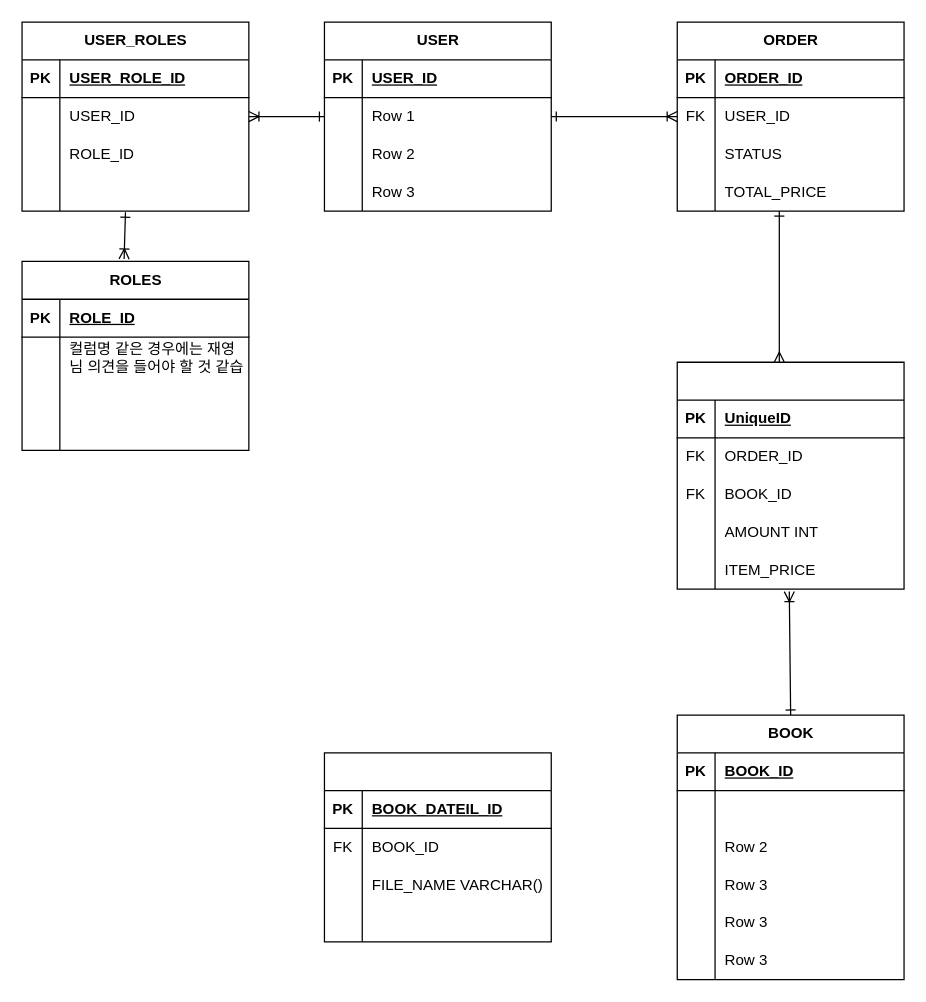
This 926x1002 diagram has some shape labels left out. Each missing label, with the box of its shape:
BOOK_DETAILS: (323, 752, 551, 942)
ORDERITEM: (676, 361, 904, 589)
